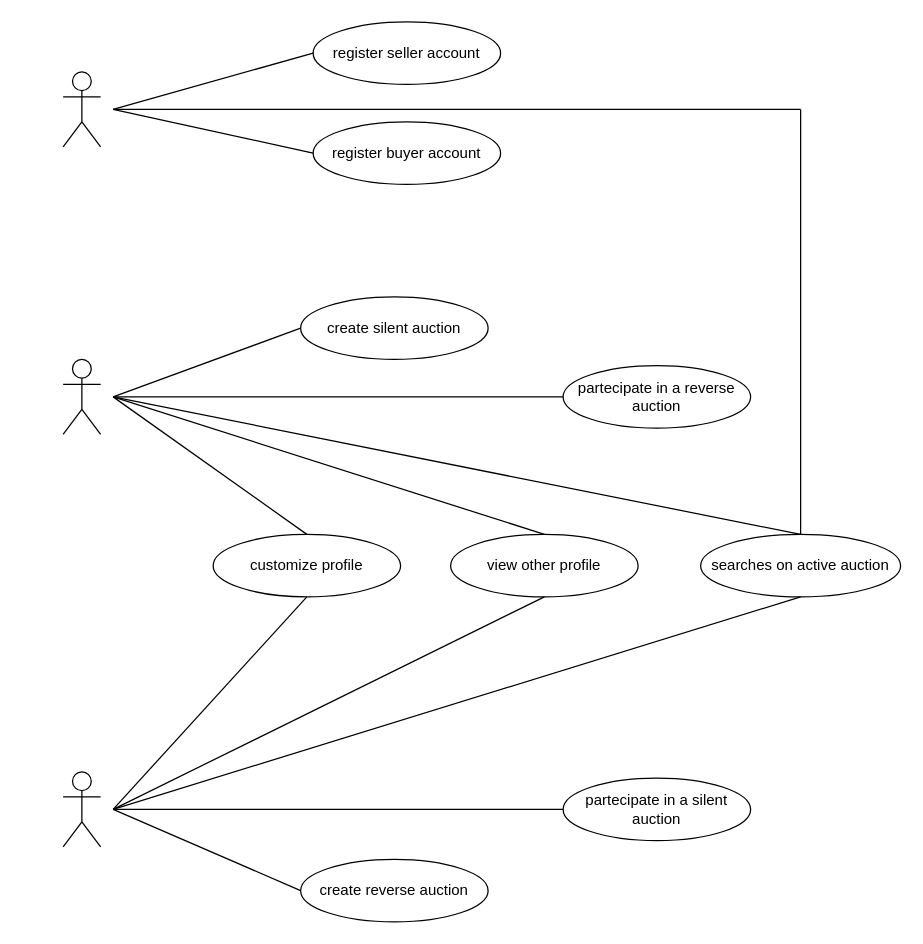
This 923x944 diagram has some shape labels left out. The box of each missing label's shape, as (x1, y1, x2, y2) in pixels:
Buyer: (62, 771, 101, 847)
Seller: (62, 358, 101, 434)
Unregistered User: (62, 71, 101, 147)
